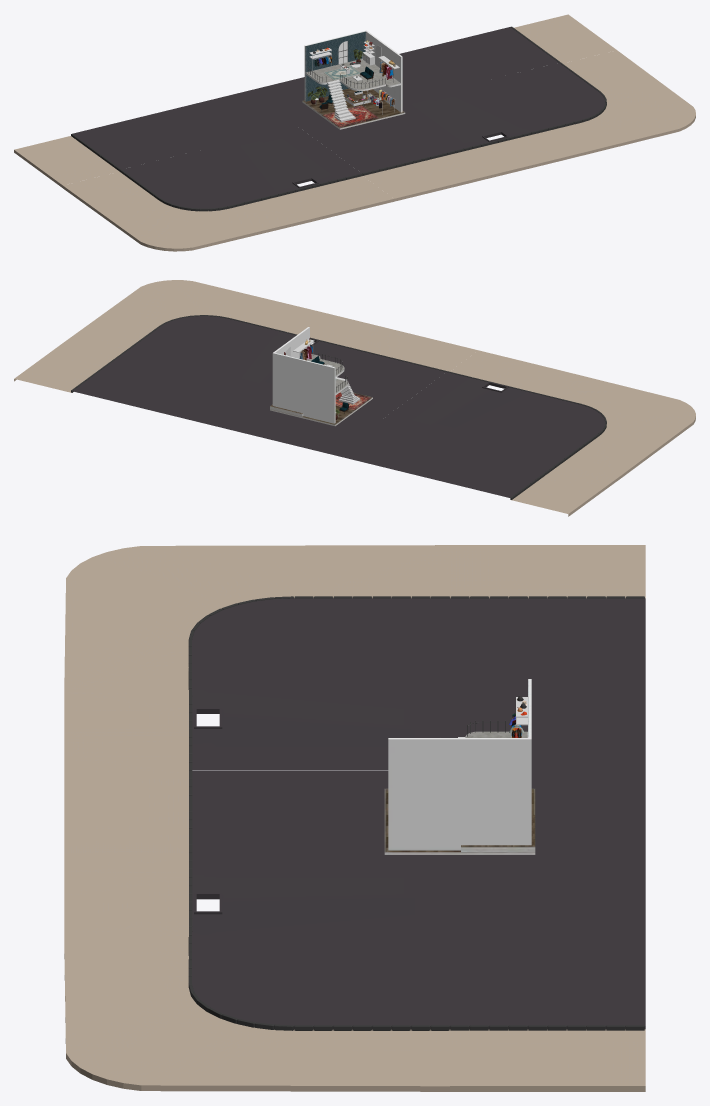
3 views of the same model, one above another, from view 1: azimuth 30°, elevation 25°; view 2: azimuth 150°, elevation 25°; view 3: azimuth 270°, elevation 25° (orthographic). The views are drawn at different scales.
Parts seen in each view (by area): view 1: StreetFRGT, walls, plain, extra.001; view 2: StreetFRGT, walls, plain; view 3: StreetFRGT, walls.
Boxes of the visible parts, <box> form: StreetFRGT: <box>14,14,695,251</box>; walls: <box>302,30,405,129</box>; plain: <box>308,40,399,122</box>; extra.001: <box>307,49,378,127</box>; StreetFRGT: <box>14,280,695,516</box>; walls: <box>270,327,372,426</box>; plain: <box>283,338,359,419</box>; StreetFRGT: <box>64,545,645,1091</box>; walls: <box>384,679,535,854</box>.
Bounding box in the file's own units: 65.92 × 7.27 × 29.93.
8 materials, 8 textured.
